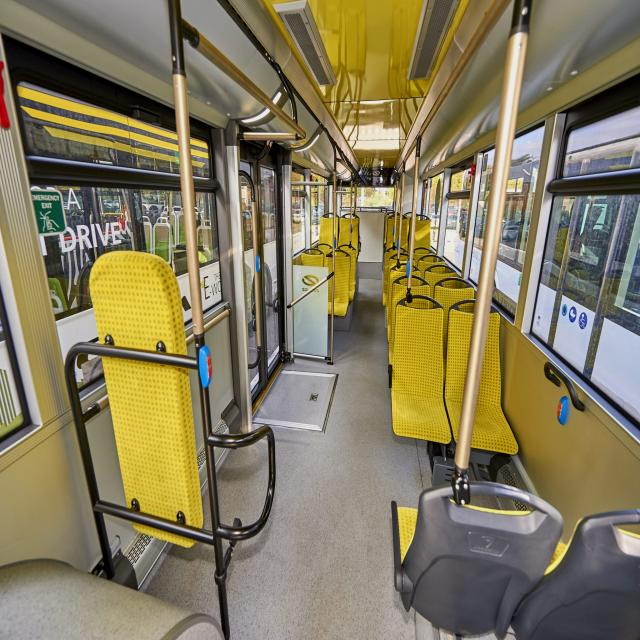asiento-libre: (397, 480, 559, 640), (445, 290, 520, 458), (564, 508, 640, 640), (388, 293, 451, 444), (388, 267, 427, 370), (432, 276, 474, 352), (321, 247, 351, 317), (384, 249, 412, 311), (418, 263, 458, 298), (318, 213, 349, 256), (340, 212, 360, 264), (409, 216, 432, 254), (384, 212, 402, 253), (410, 247, 434, 270), (405, 214, 416, 220)
